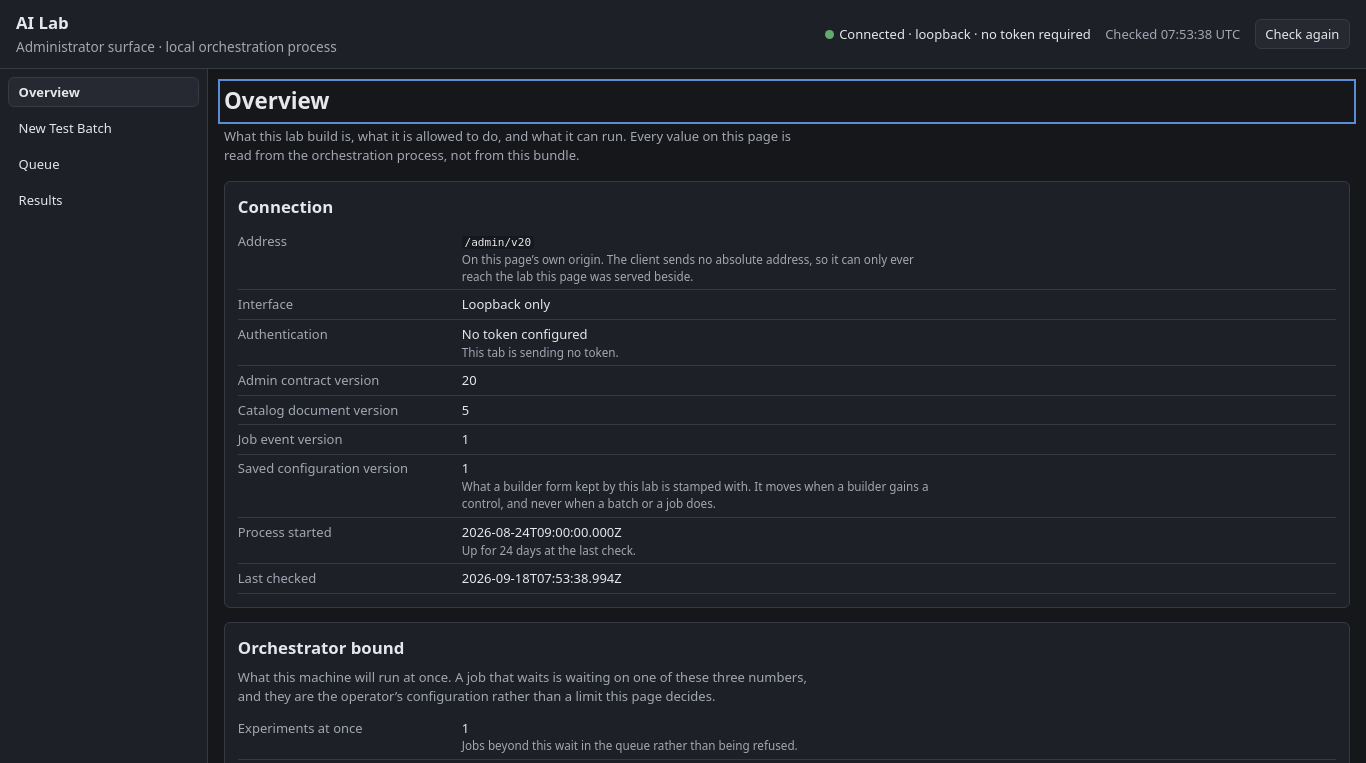
Test: opening the Card Explorer › refuses a malformed card ID without sending a request
Check: the heading "Overview" is shown, box [224,85,330,116]
Click the button "Results" at (104, 200), box [8,185,199,216]
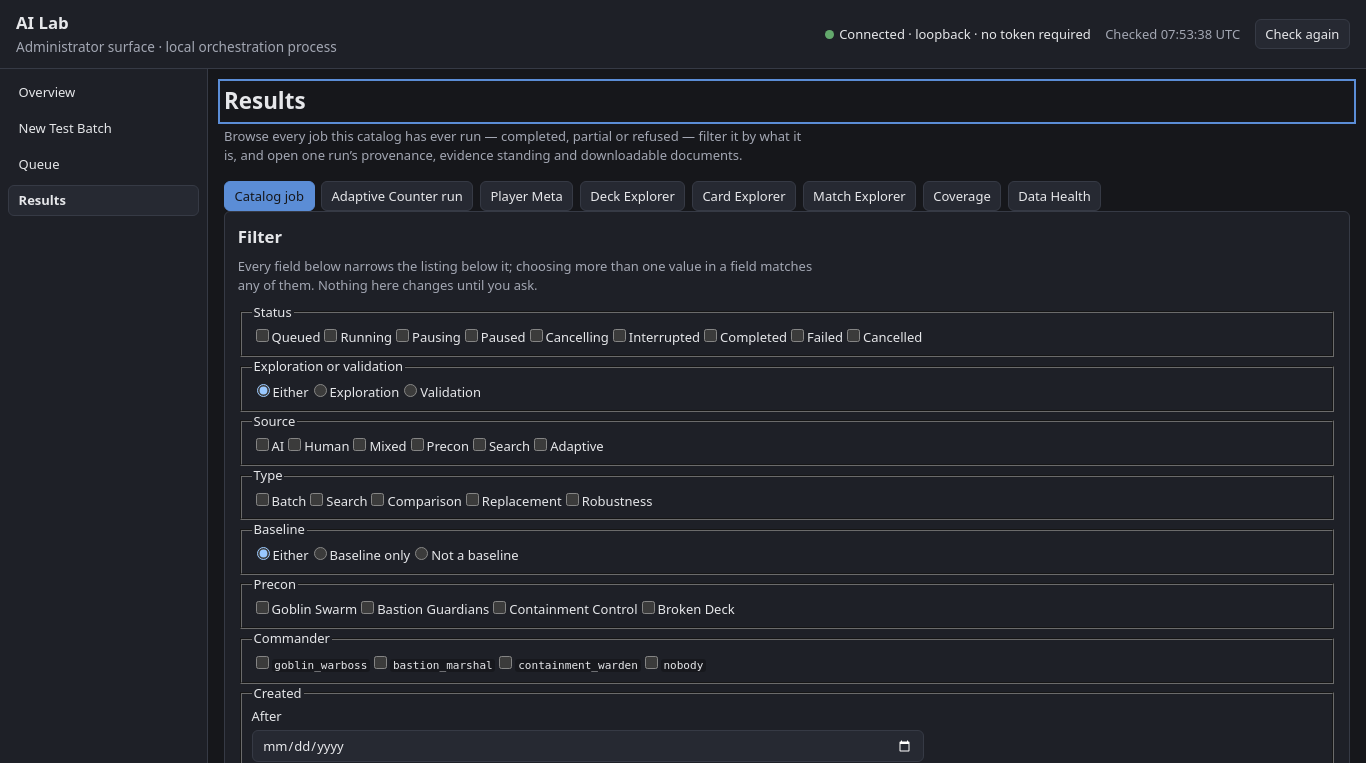
Check: the heading "Results" is shown, box [224,85,306,116]
Click the button "Card Explorer" at (744, 196), box [692,181,796,211]
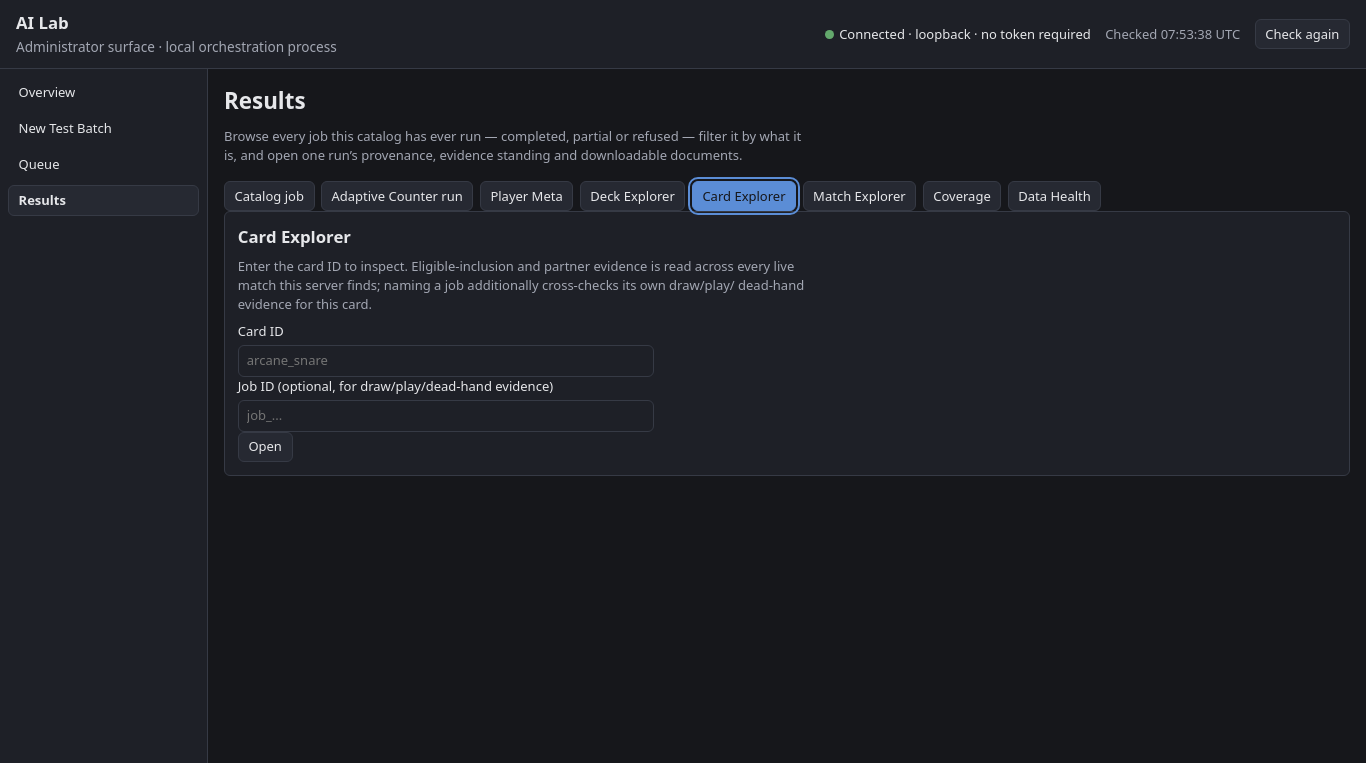
Click the button "Open" at (265, 447), box [238,432,292,462]
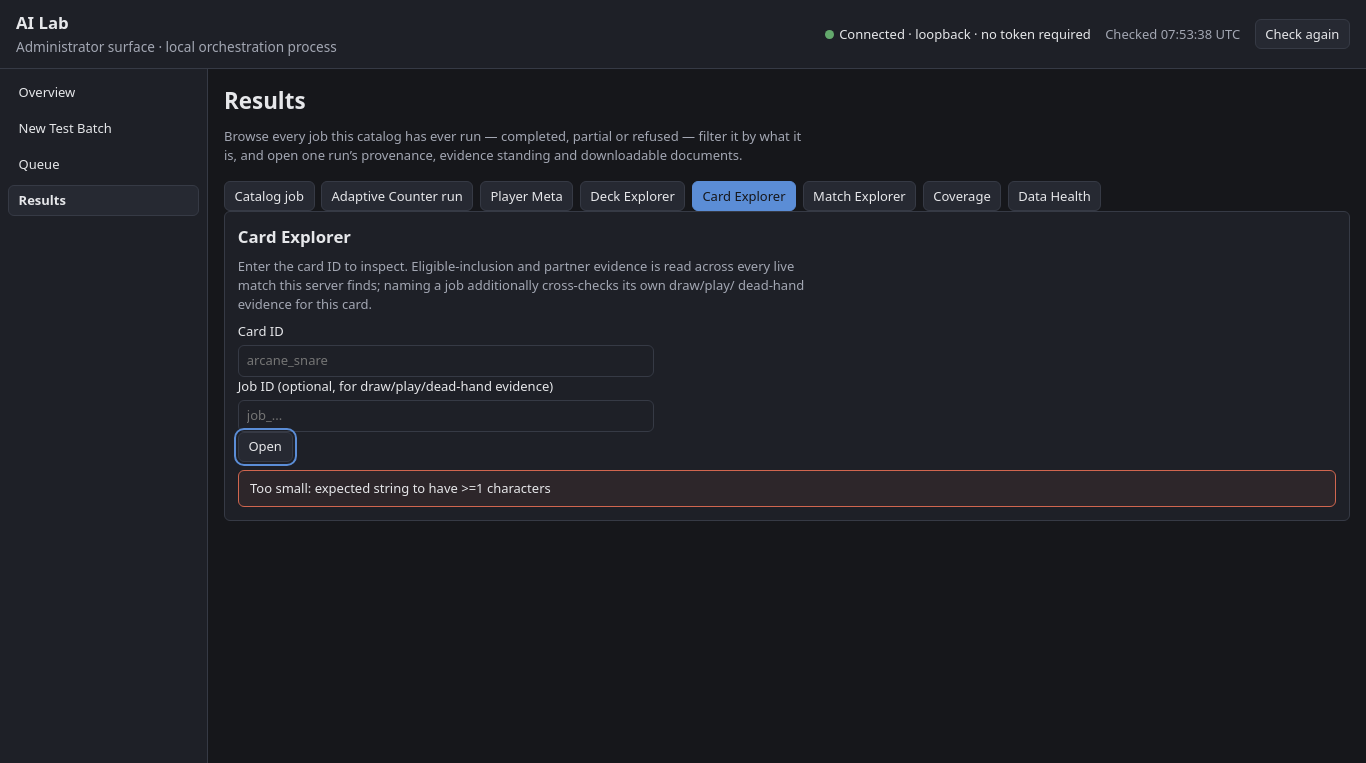
Check: the message "Too small: expected string to have >=1 characters" is shown, box [238,470,1336,507]
